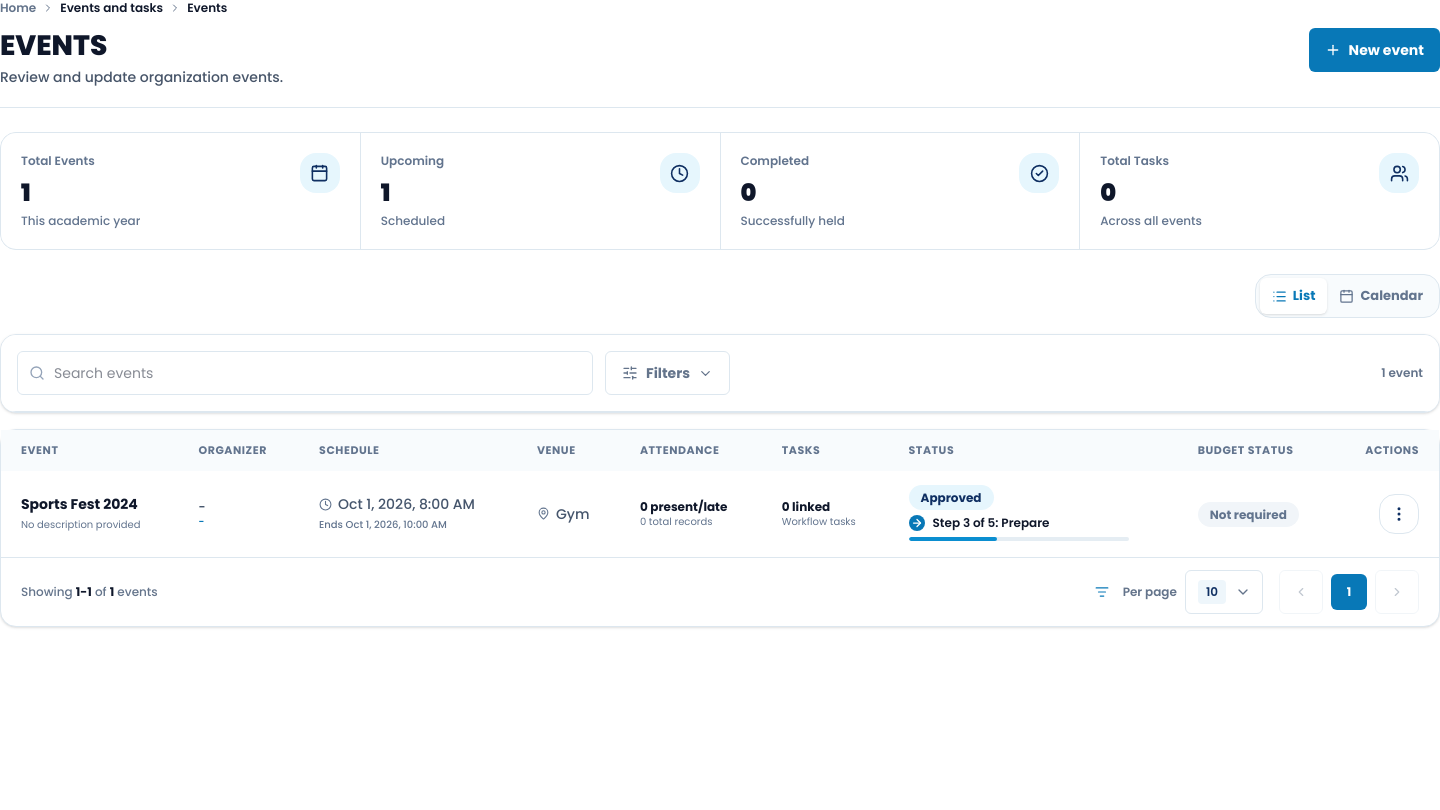
Test: EventsPage approval-request launch › says on the event money panel that cash advances are not counted
Step 1. Click the button named "Actions for Sports Fest 2024" → (1399, 514), box left=1379, top=494, right=1419, bottom=534
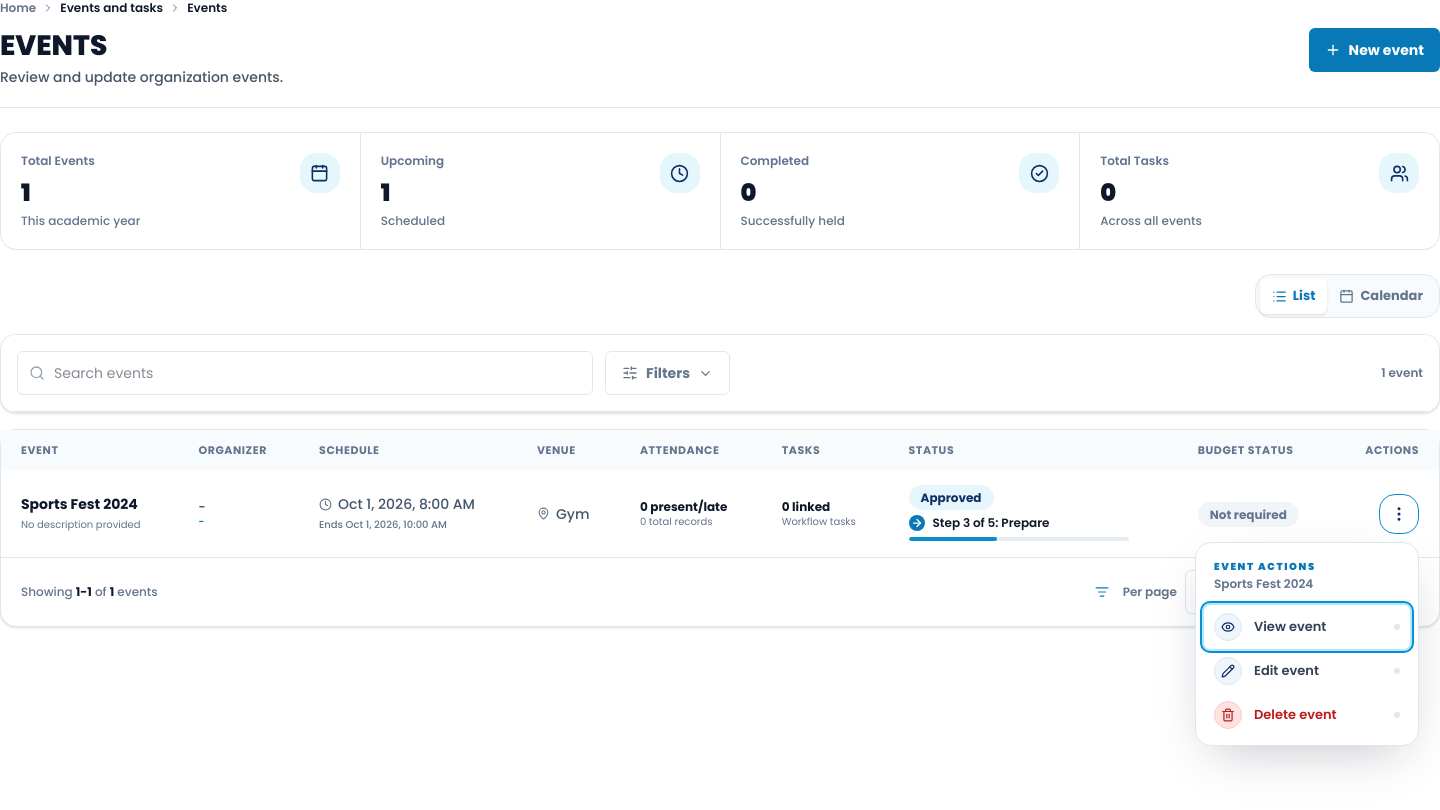
Step 2. Click the menu item "View event" → (1307, 626), box left=1204, top=604, right=1410, bottom=648
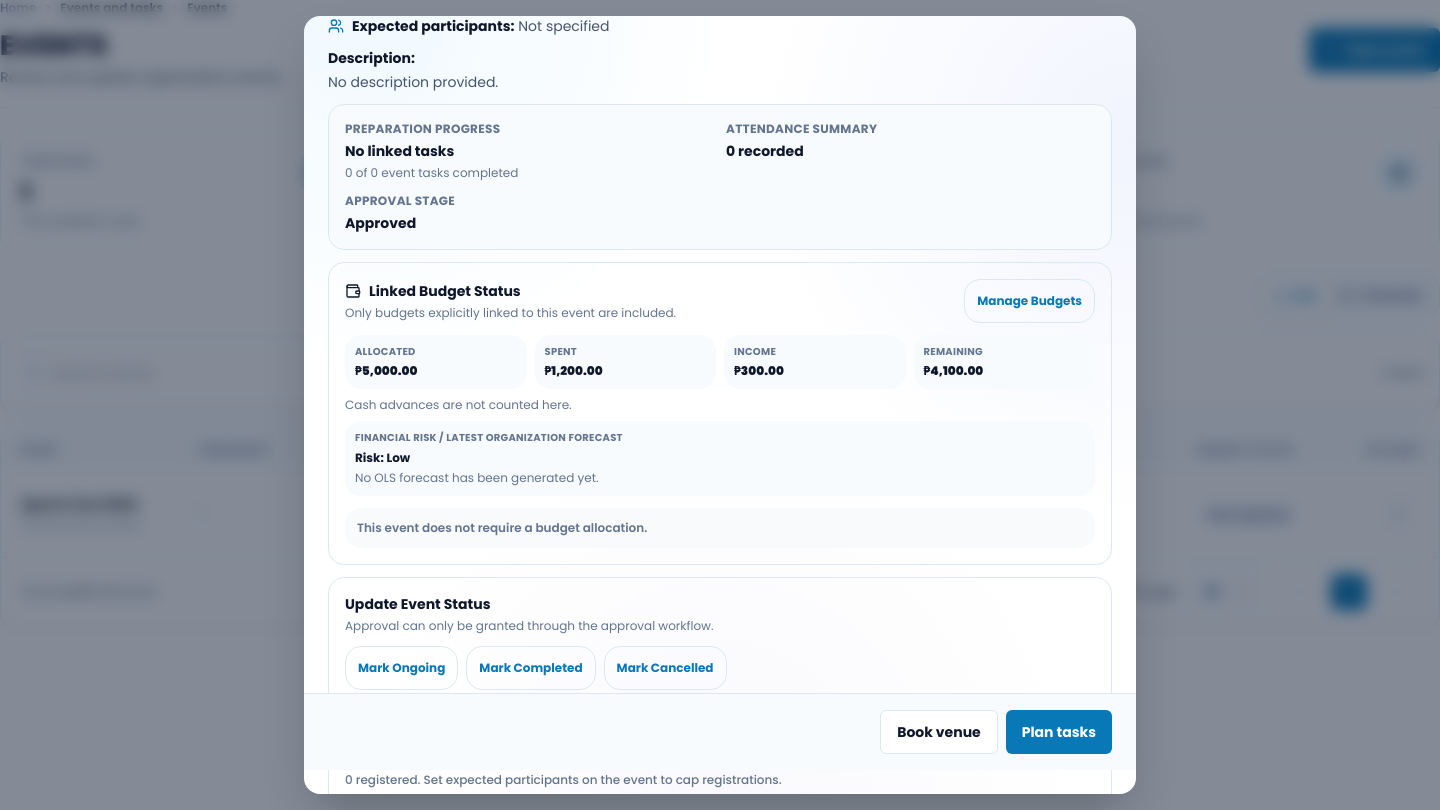
Now the text "Cash advances are not counted here." is shown, box left=345, top=396, right=572, bottom=413
